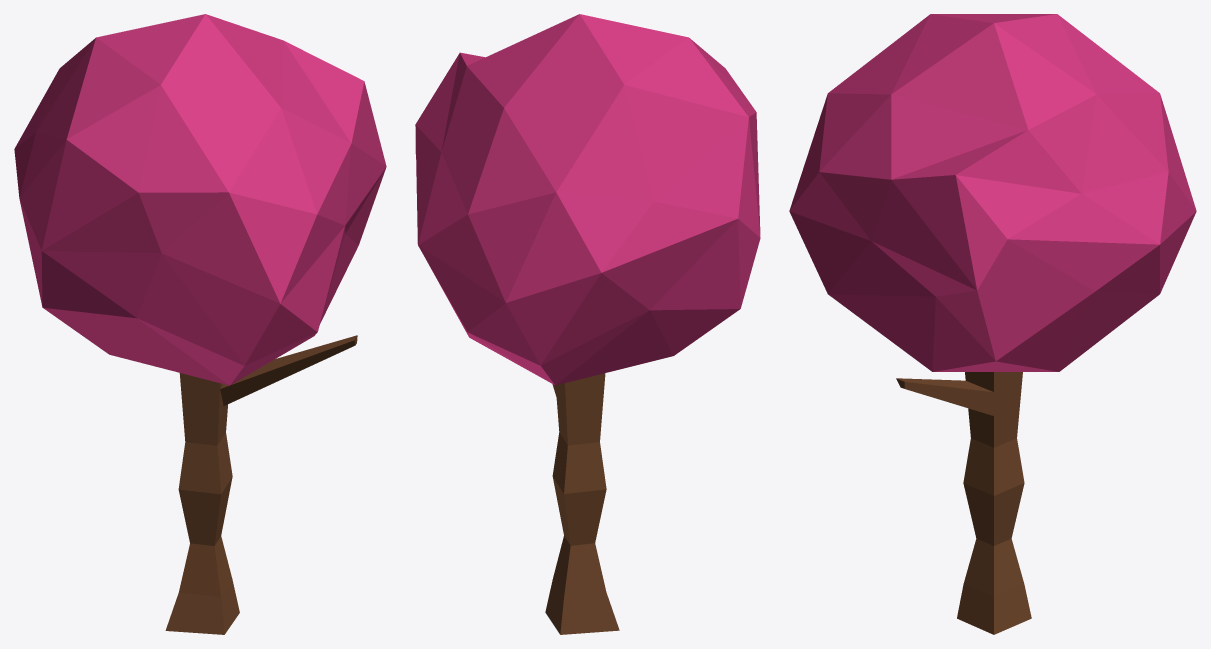
Rendered from Tree_39_Pink.fbx.
3 renders of one model, left to right at view 1: azimuth 30°, elevation 25°; view 2: azimuth 150°, elevation 25°; view 3: azimuth 270°, elevation 25°, orthographic.
Visible parts, largest first — view 1: Tree_39_Pink_Part_1, Tree_39_Pink_Part_2, Tree_39_Pink_Part_3; view 2: Tree_39_Pink_Part_1, Tree_39_Pink_Part_2; view 3: Tree_39_Pink_Part_1, Tree_39_Pink_Part_2, Tree_39_Pink_Part_3.
Part boxes in pixels (box(x1,y1,x2,y2)): Tree_39_Pink_Part_1: box(14, 14, 386, 385); Tree_39_Pink_Part_2: box(165, 373, 239, 634); Tree_39_Pink_Part_3: box(220, 335, 357, 405); Tree_39_Pink_Part_1: box(415, 14, 760, 385); Tree_39_Pink_Part_2: box(545, 373, 619, 634); Tree_39_Pink_Part_1: box(789, 14, 1196, 371); Tree_39_Pink_Part_2: box(957, 372, 1031, 634); Tree_39_Pink_Part_3: box(896, 378, 993, 415).
Bounding box in the file's own units: 474 × 798 × 495.
